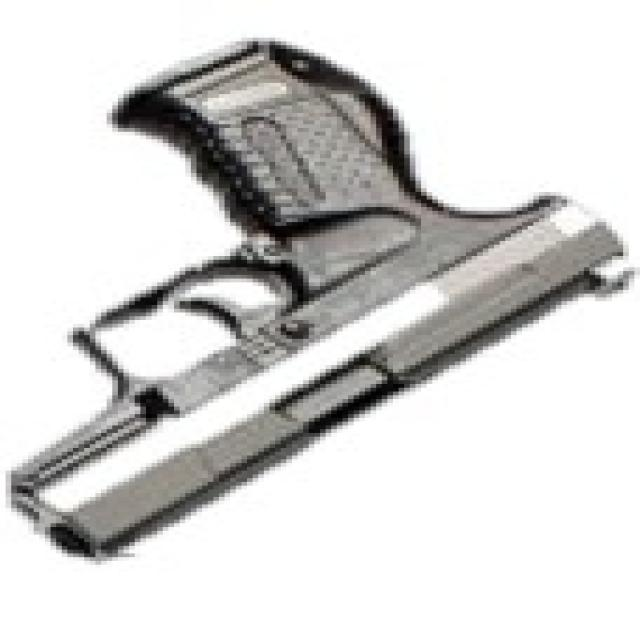pistol: (1, 32, 640, 572)
